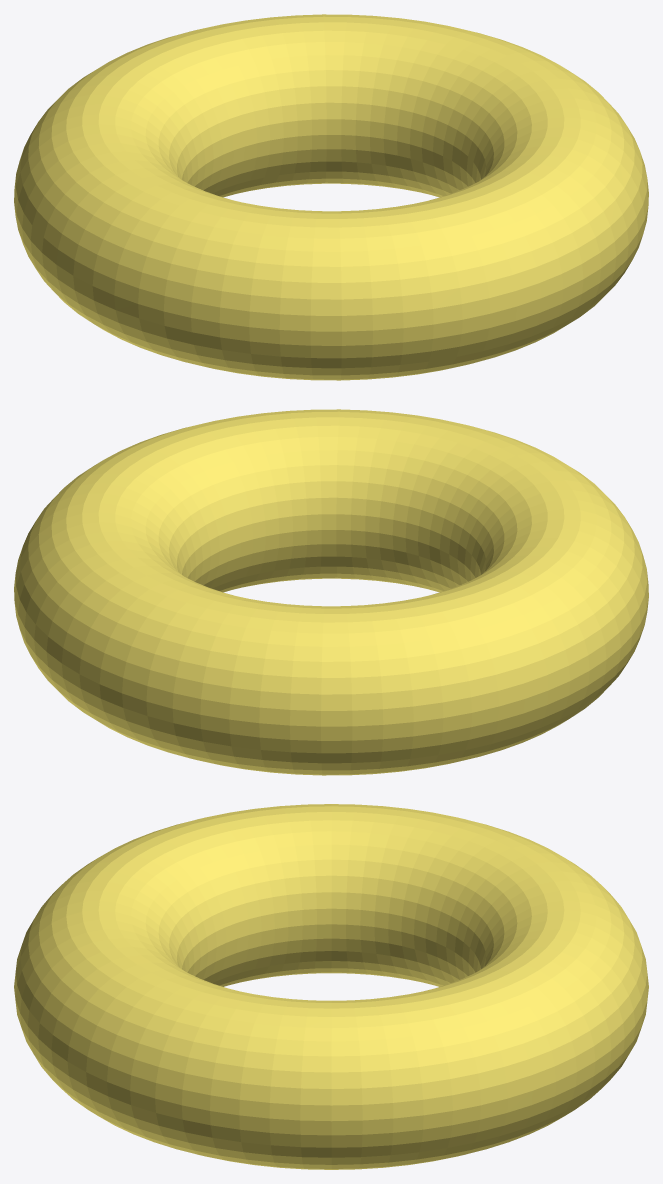
The picture shows the model from 3 angles, top to bottom: view 1: azimuth 30°, elevation 25°; view 2: azimuth 150°, elevation 25°; view 3: azimuth 270°, elevation 25°; orthographic projection.
Size of the model in its own units: 30 by 8 by 30.
